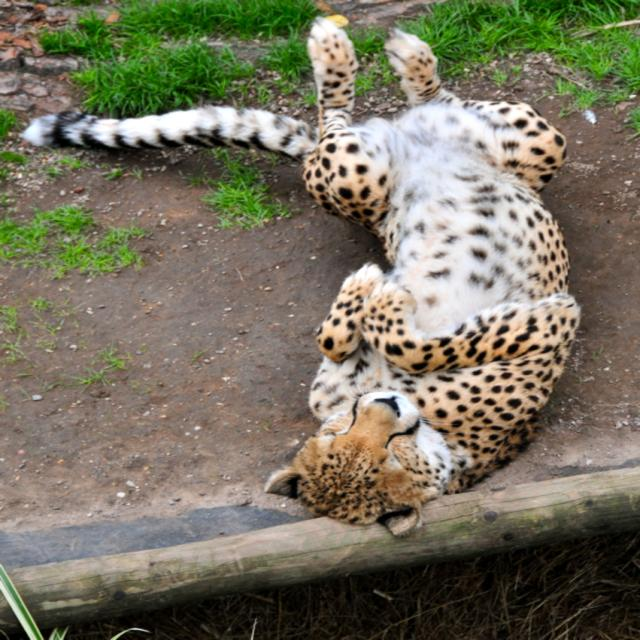cheetah: (158, 46, 619, 560)
